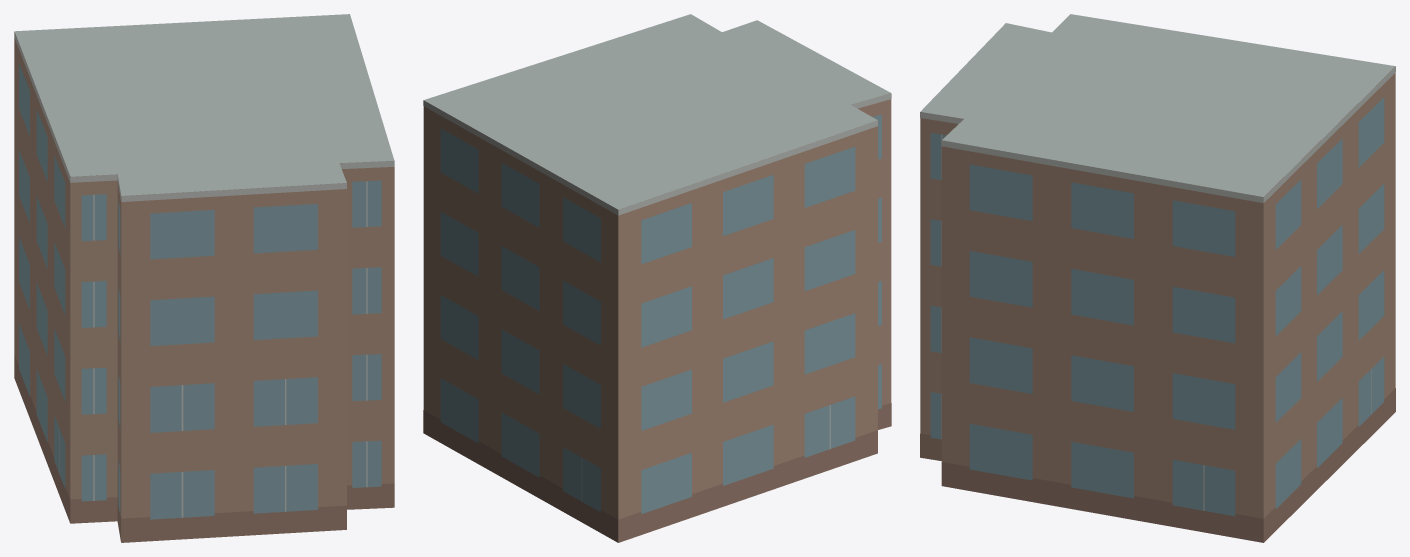
File: survey-upis-32918976.glb
The picture shows the model from 3 angles, left to right: view 1: azimuth 30°, elevation 25°; view 2: azimuth 150°, elevation 25°; view 3: azimuth 270°, elevation 25°; orthographic projection. The views are drawn at different scales.
Parts seen in each view (by area): view 1: survey-upis-32918976.tmp; view 2: survey-upis-32918976.tmp; view 3: survey-upis-32918976.tmp.
Boxes of the visible parts, bbox=[...] form: survey-upis-32918976.tmp: bbox=[14, 14, 394, 542]; survey-upis-32918976.tmp: bbox=[423, 14, 891, 542]; survey-upis-32918976.tmp: bbox=[920, 14, 1395, 542].
Bounding box in the file's own units: 15.8 × 13.9 × 17.34.
